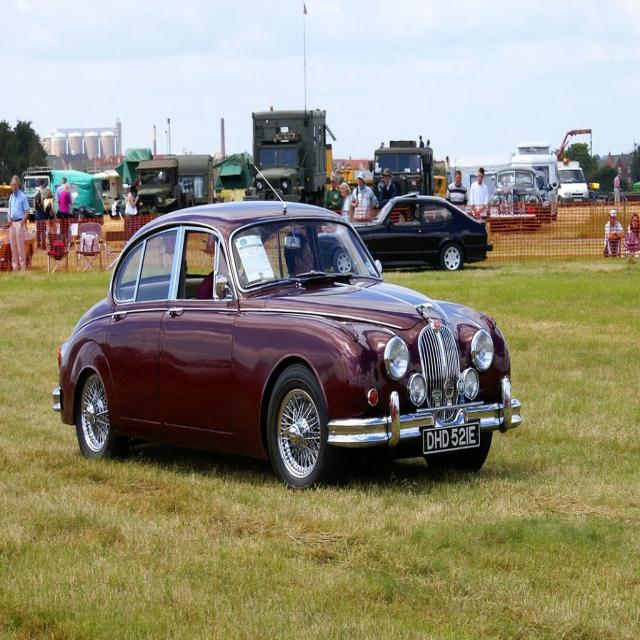car: (70, 201, 496, 494)
